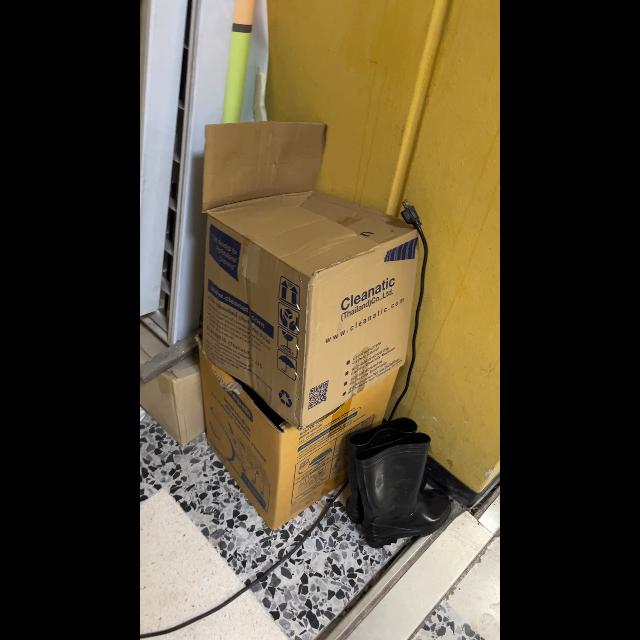cardboard_box: (199, 120, 409, 426)
